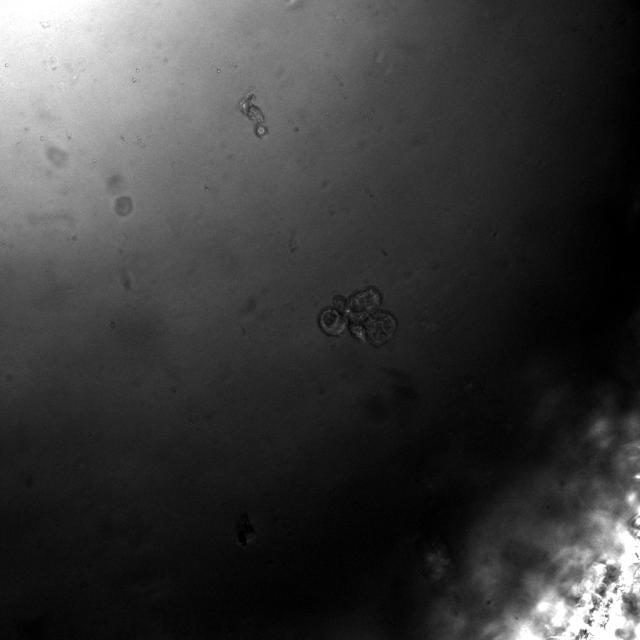organoid: (318, 286, 397, 347), (240, 92, 268, 138), (114, 196, 132, 216)
